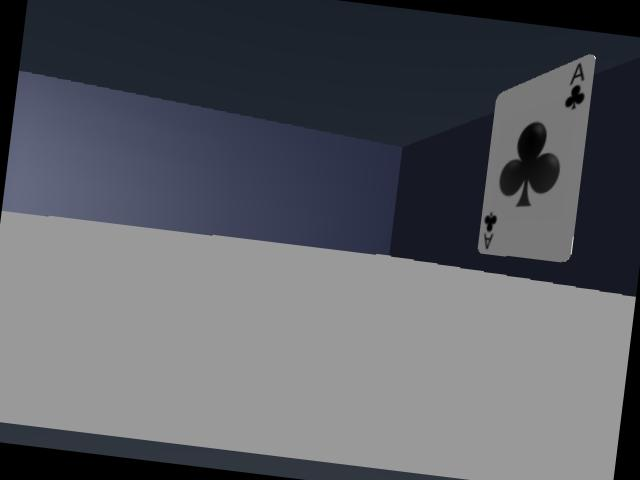club: (478, 55, 595, 261)
